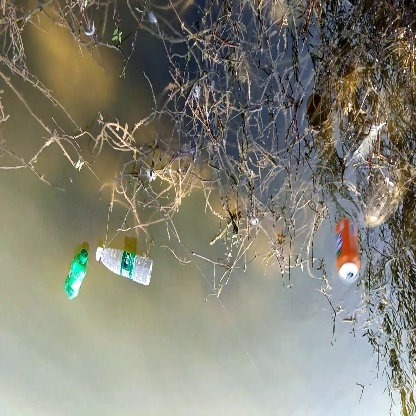bottle: (90, 240, 159, 293)
